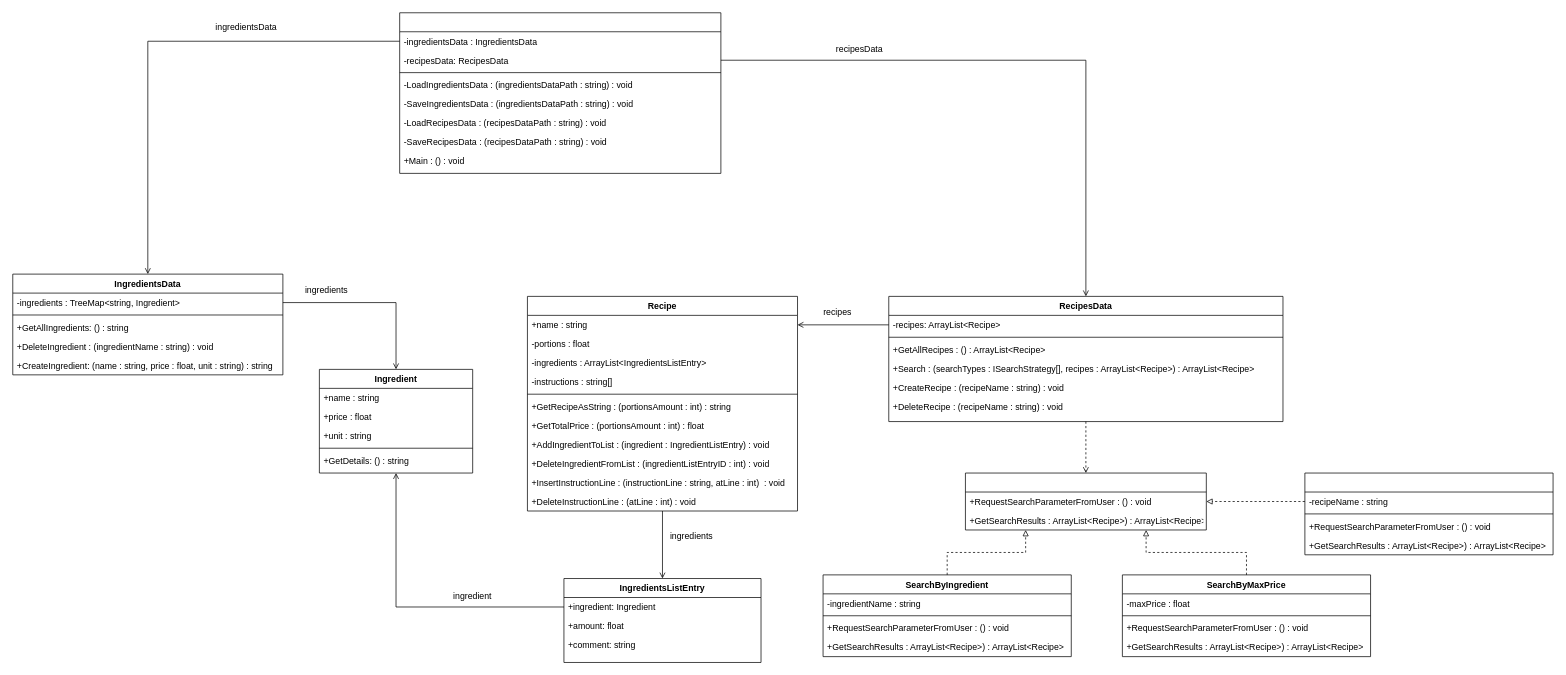
The diagram is 1566 pixels wide and 675 high, and some of its shapes have lost their labels. Each missing label, with the box of its shape:
ISearchStrategy: (965, 472, 1206, 530)
RecipeBookApplication: (399, 12, 721, 173)
SearchByRecipeNameBegins: (1304, 472, 1553, 555)
